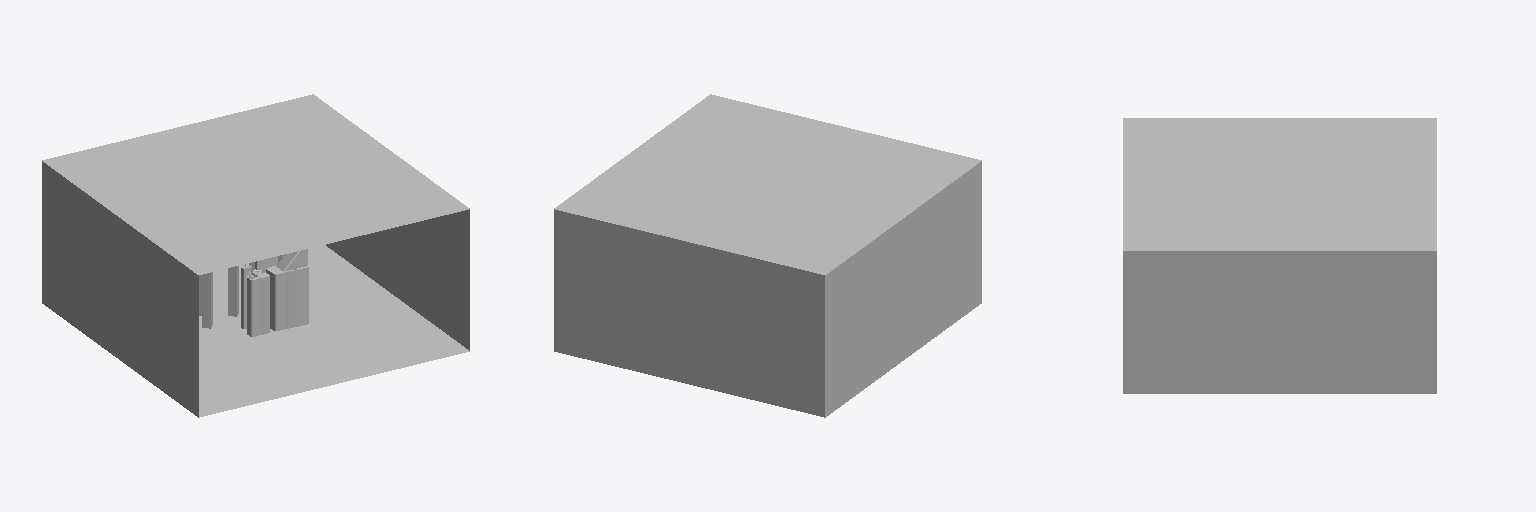
Rendered from ssbds yoshi's island.obj.
The picture shows the model from 3 angles: view 1: azimuth 30°, elevation 25°; view 2: azimuth 150°, elevation 25°; view 3: azimuth 270°, elevation 25°; orthographic projection.
Visible parts, largest first — view 1: Mesh40 Model, Mesh17 Model, Mesh16 Model, Mesh39 Model, Mesh37 Model; view 2: Mesh40 Model; view 3: Mesh40 Model.
Boxes of the visible parts, <box> form: Mesh40 Model: <box>42,94,469,417</box>; Mesh17 Model: <box>266,265,308,330</box>; Mesh16 Model: <box>247,270,269,336</box>; Mesh39 Model: <box>202,272,212,328</box>; Mesh37 Model: <box>228,266,238,316</box>; Mesh40 Model: <box>554,94,981,417</box>; Mesh40 Model: <box>1123,118,1436,393</box>.
Bounding box in the file's own units: 1200 × 600 × 1200.